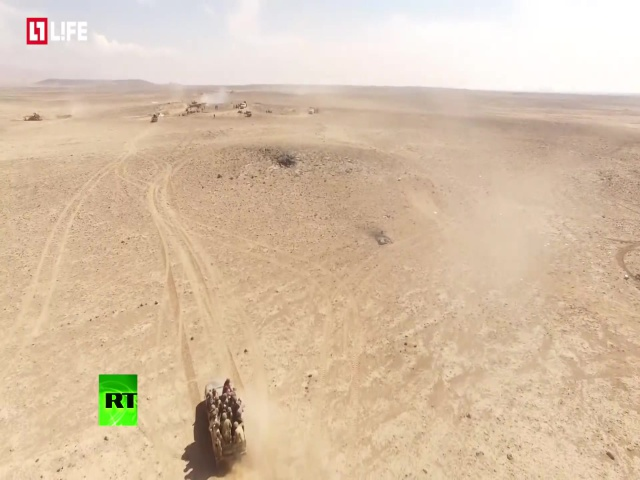vehicle: (202, 377, 248, 468)
